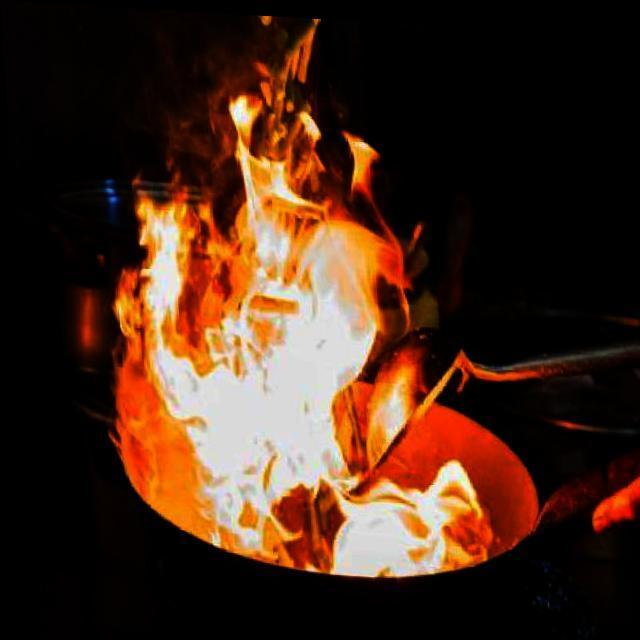Fire: (83, 64, 513, 591)
Smoke: (103, 5, 429, 567)
